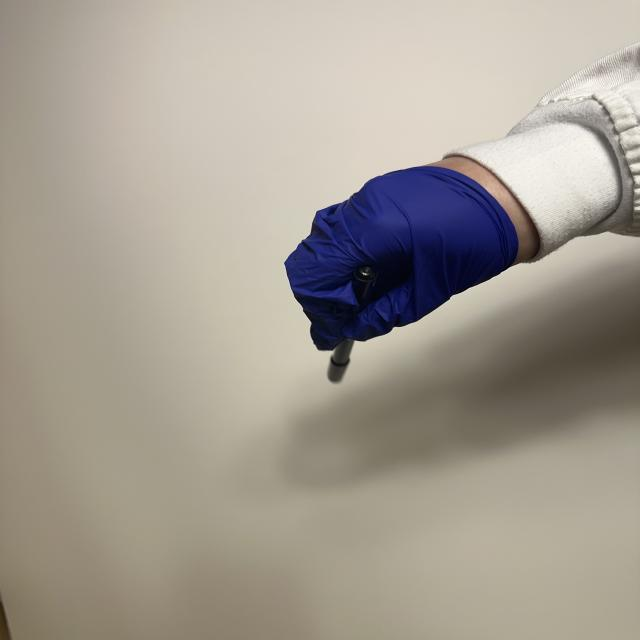glove_partial: (284, 150, 560, 355)
